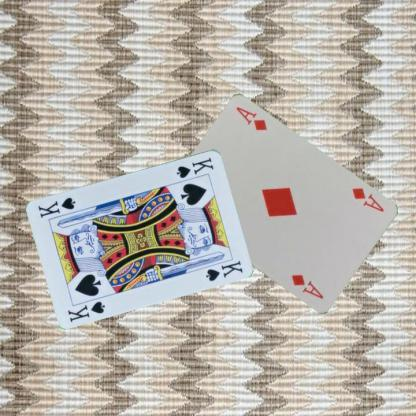Ad: (349, 185, 385, 214)
Ks: (65, 298, 107, 323), (174, 154, 215, 179)
